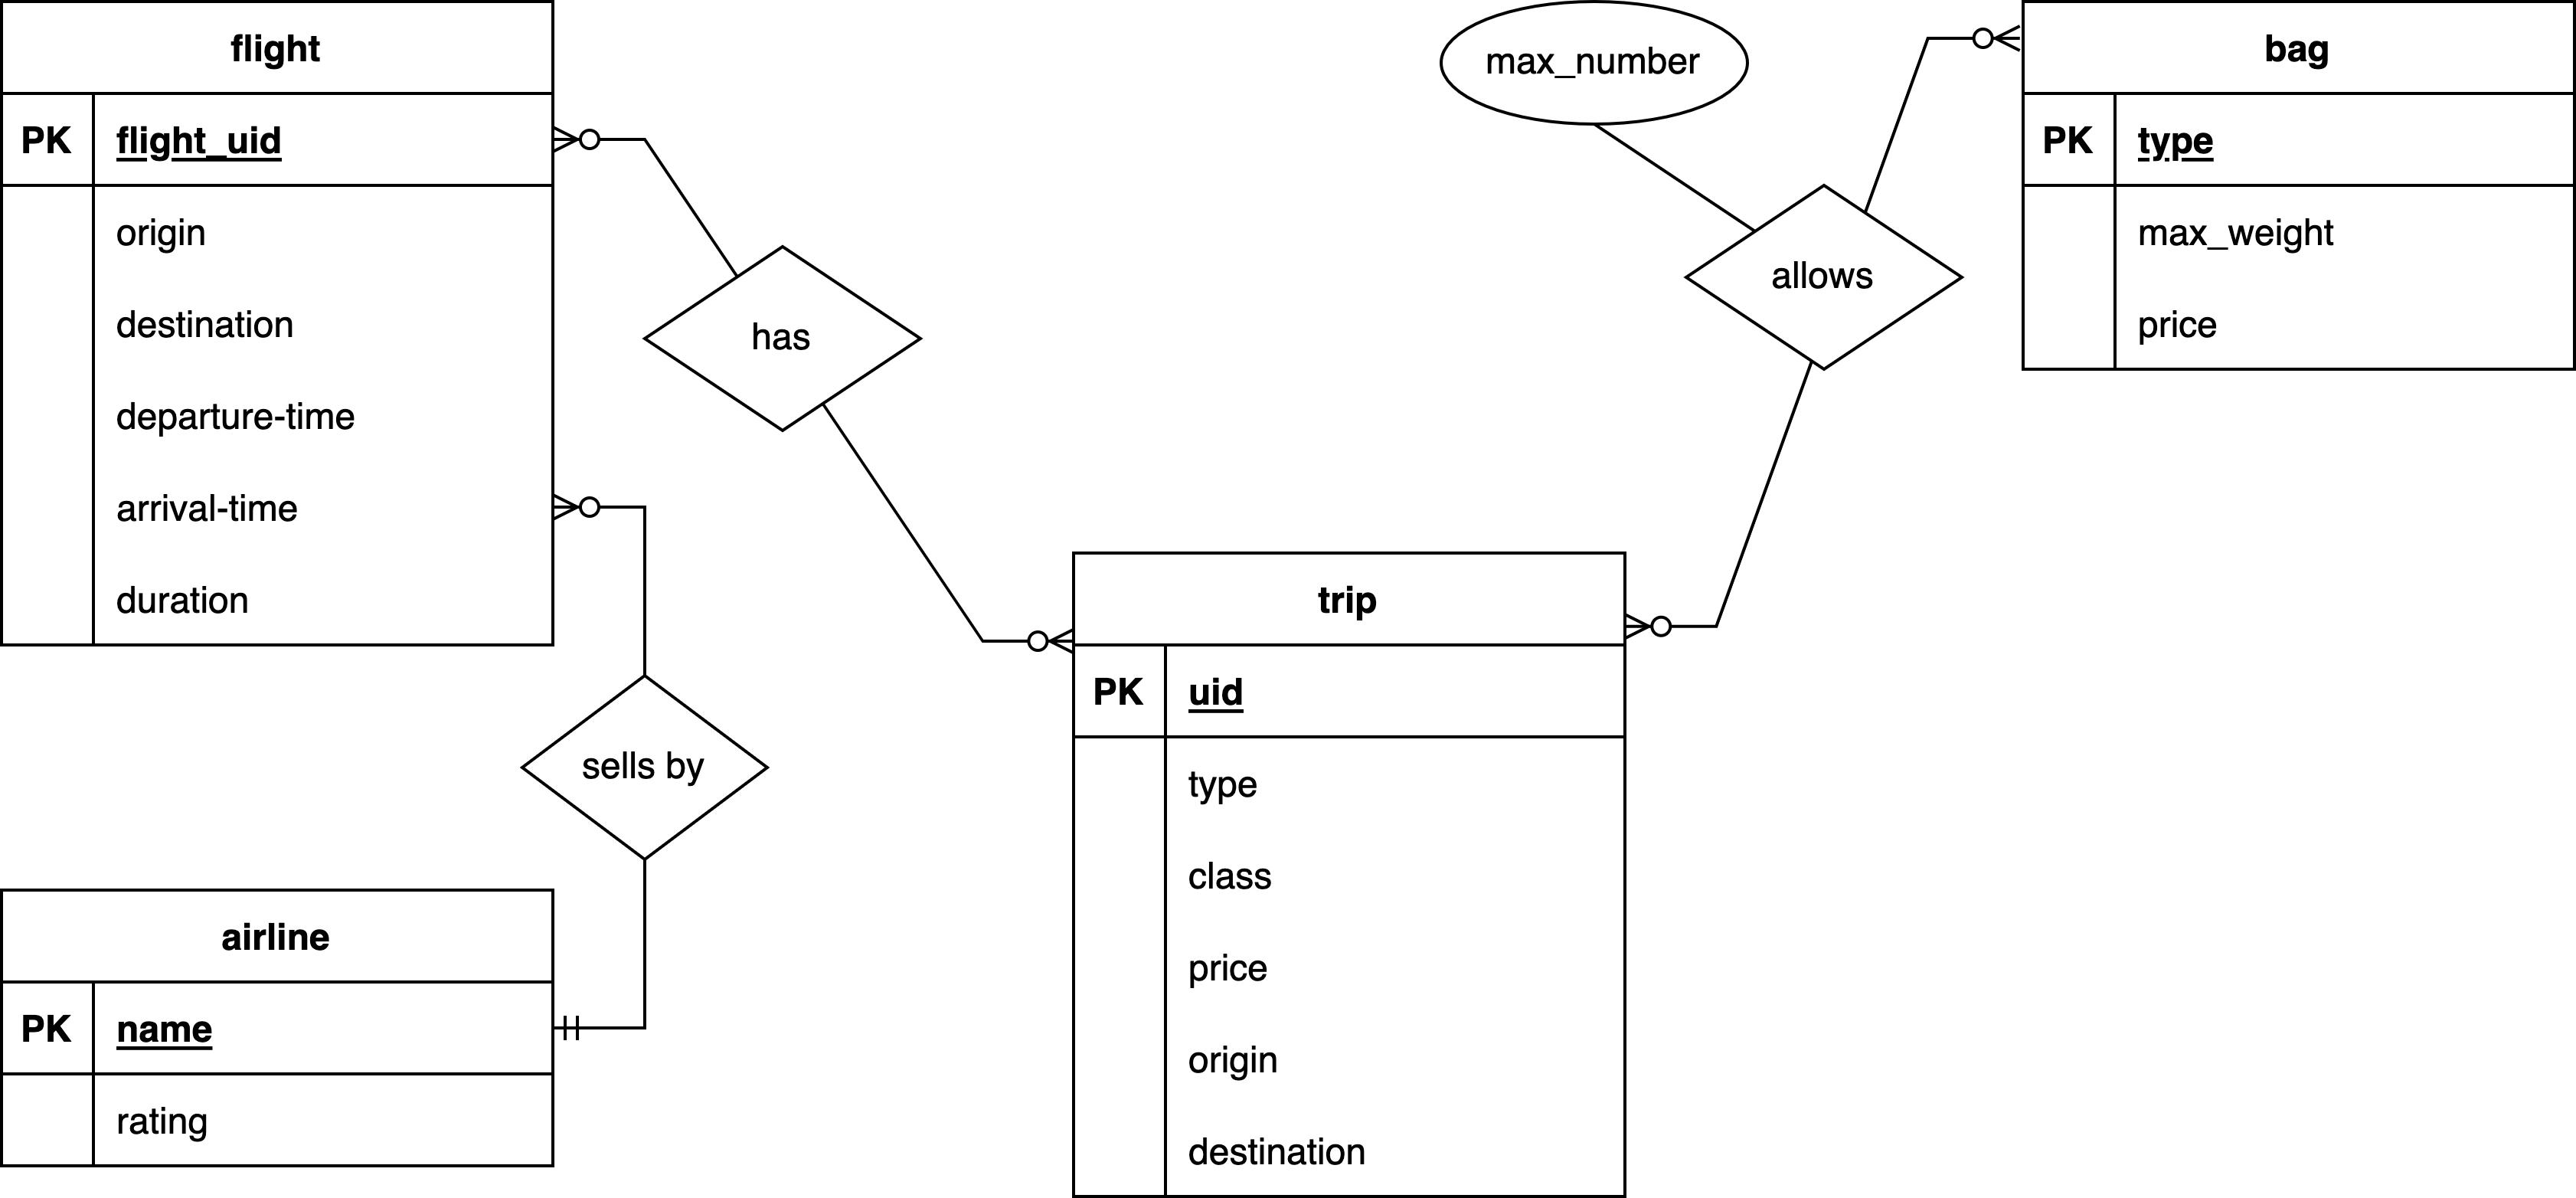attribute: (1436, 2, 1748, 123)
entity: (0, 0, 560, 651), (1069, 552, 1630, 1198), (2017, 0, 2576, 371), (0, 887, 557, 1172)
relationship: (1682, 184, 1960, 376), (641, 243, 920, 429), (522, 680, 766, 855)
